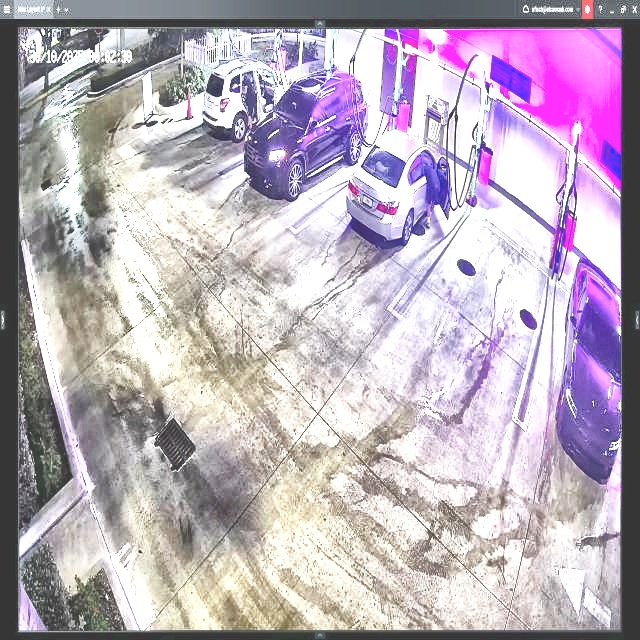Car: (245, 65, 366, 196), (345, 130, 451, 241)
